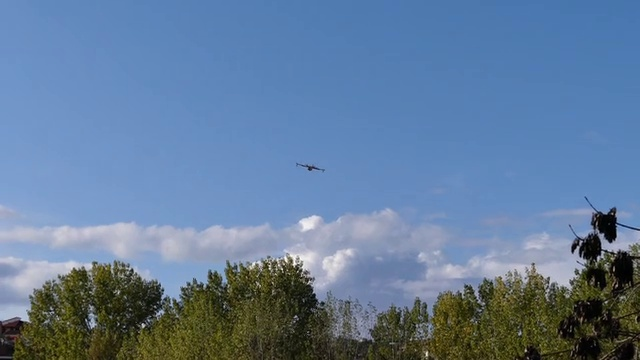plane: (295, 161, 325, 174)
